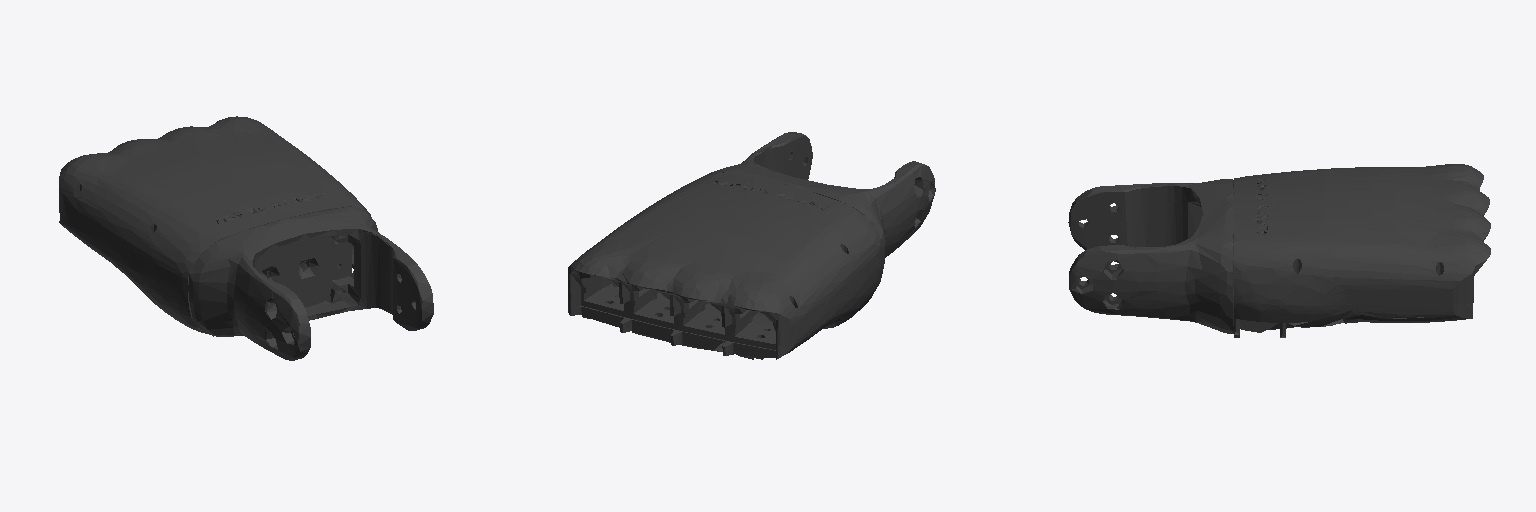
File: inspire_Left_1.obj
3 renders of one model, left to right at view 1: azimuth 30°, elevation 25°; view 2: azimuth 150°, elevation 25°; view 3: azimuth 270°, elevation 25°, orthographic.
Size of the model in its own units: 0.0815 by 0.0414 by 0.1372.